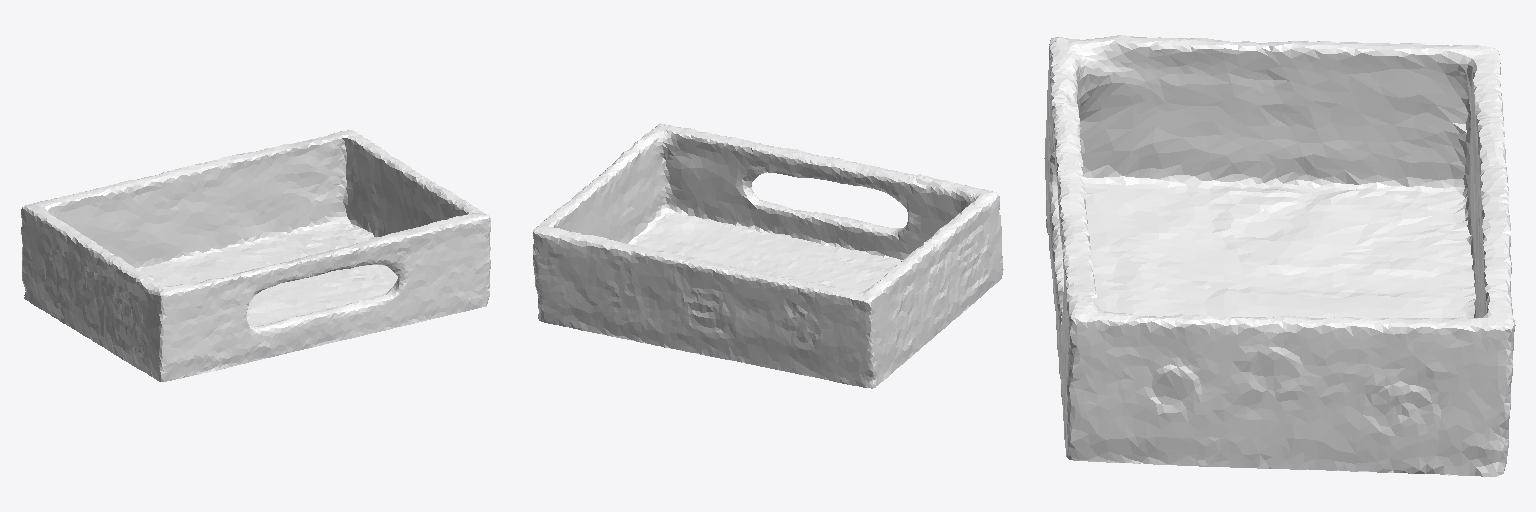
URDF robot description (boxlidleft):
<?xml version="1.0" ?>
<robot name="boxlidleft">
 <link name="baseLink">
   <contact>
     <lateral_friction value="0.4"/>
   </contact>
   <inertial>
     <origin rpy="0 0 0" xyz="0.026698 -0.018013 0.031058"/>
      <mass value="0.4"/>
      <inertia ixx="0.000000" ixy="-0.000000" ixz="0.000000" iyy="0.000000" iyz="0.000000" izz="0.000000"/>
   </inertial>
   <visual>
     <origin rpy="0 0 0" xyz="0 0 0"/>
     <geometry>
       <mesh filename="boxlidleft.obj" scale="1.0 1.0 1.0"/>
     </geometry>
      <material name="white">
       <color rgba="1 1 1 1"/>
     </material>
   </visual>
   <collision>
     <origin rpy="0 0 0" xyz="0 0 0"/>
     <geometry>
       <mesh filename="boxlidleft_vhacd2.obj" scale="1.0 1.0 1.0"/>
     </geometry>
   </collision>
 </link>
</robot>

--- Render facts (derived) ---
3 views of the same robot in one strip: view 1: azimuth 30°, elevation 25°; view 2: azimuth 150°, elevation 25°; view 3: azimuth 270°, elevation 25° (orthographic).
Model boxlidleft with 1 links and 0 joints (none), rooted at baseLink, posed all joints at 0.
Visible links, largest first — view 1: baseLink; view 2: baseLink; view 3: baseLink.
Link boxes in pixels (x1,y1,x2,y2): baseLink: (21,130,490,381); baseLink: (533,123,1003,388); baseLink: (1044,35,1515,476).
Size in the robot's own frame: 0.1597 by 0.1153 by 0.0483 metres.
Meshes: 1 distinct files referenced, 1 mesh visuals loaded (1 OBJ).
